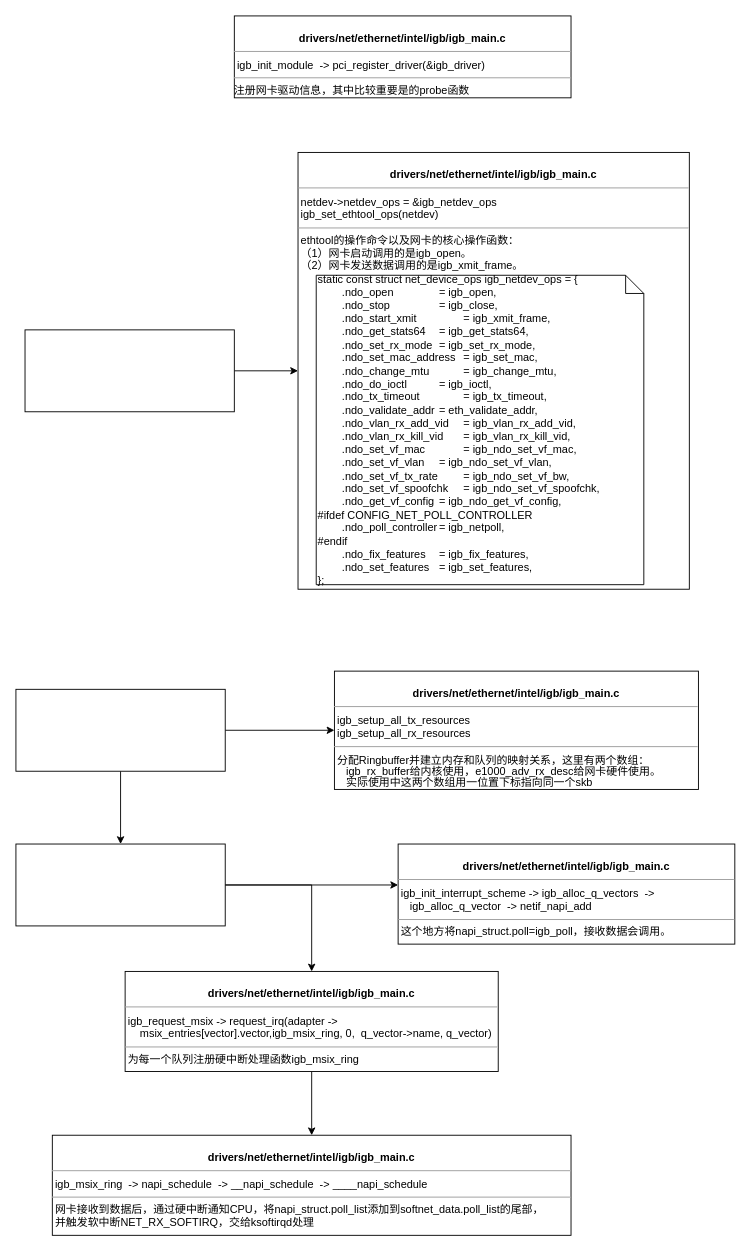
The diagram is 751 pixels wide and 1251 high, and some of its shapes have lost their labels. Here are the shapes that lost their labels. From the top down, the centre of each, then its label:
At pixel 129 370: "drivers/net/ethernet/intel/igb/igb_main.c igb_probe".
At pixel 120 729: "drivers/net/ethernet/intel/igb/igb_main.c igb_open -> __igb_open ->".
At pixel 120 884: "drivers/net/ethernet/intel/igb/igb_main.c igb_request_irq 进行硬中断相关设置".
